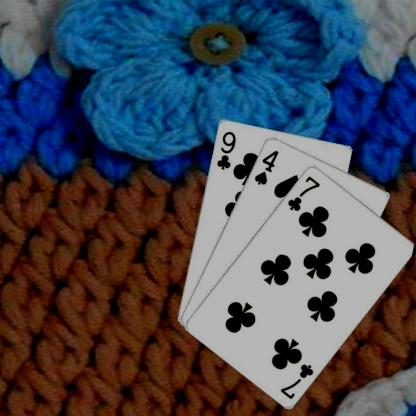4S: (251, 147, 280, 186)
7C: (277, 360, 315, 401), (284, 173, 322, 212)
9C: (214, 128, 237, 172)
